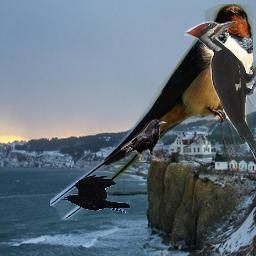Crow: (61, 175, 131, 214), (121, 118, 167, 162)
Swallow: (50, 4, 253, 220)
Woodpecker: (184, 21, 256, 161)
